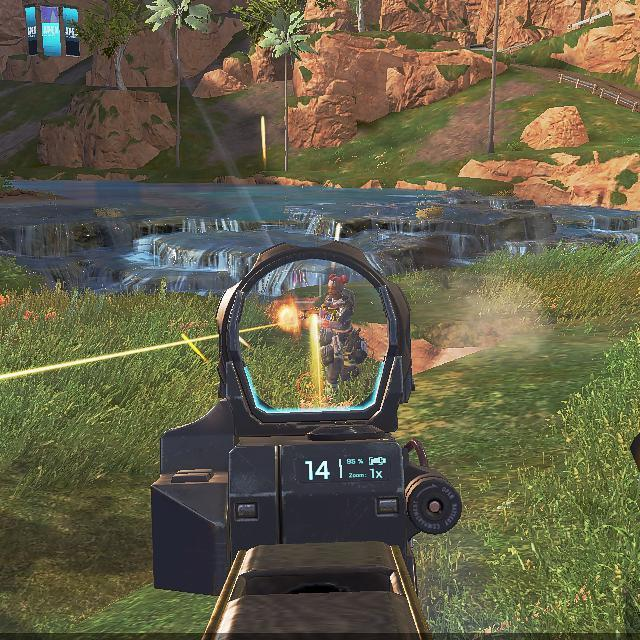avatar: (318, 274, 368, 386)
